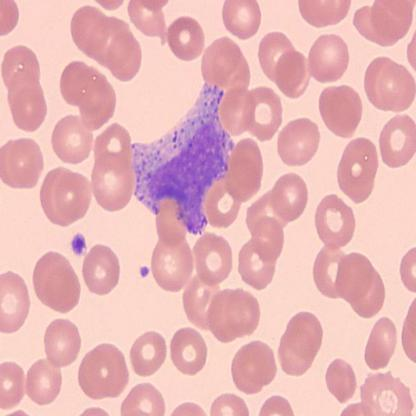Promyelocyte: (131, 85, 233, 239)
